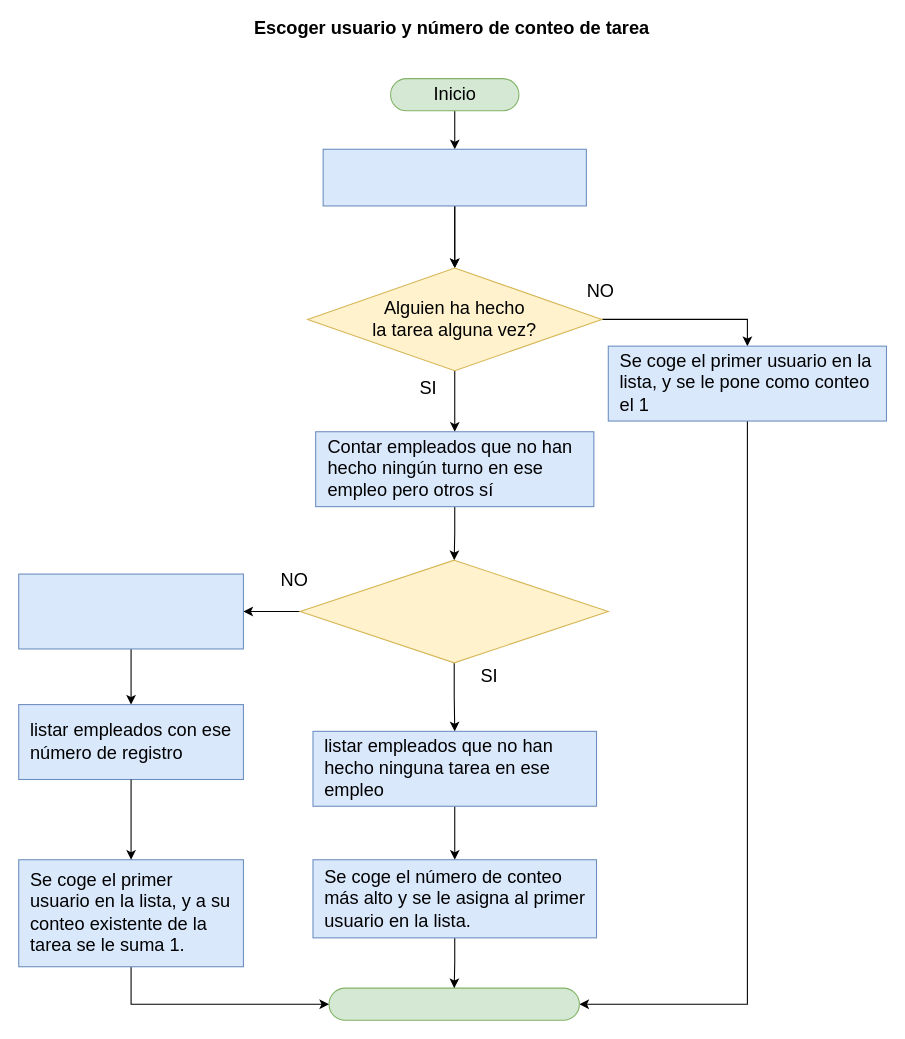
Some shapes in this 905 by 1039 pixel diagram are drawn without their labels. Here are the shapes that lost their labels. From the top down, the centre of each, then its label:
the point at 454,177: Contar los registros para esa tarea y empleo
the point at 130,611: Averiguar el conteo más bajo de tareas hechas de ese empleo
the point at 453,611: Hay alguien que no haya hecho la tarea alguna vez?
the point at 453,1003: FIN
